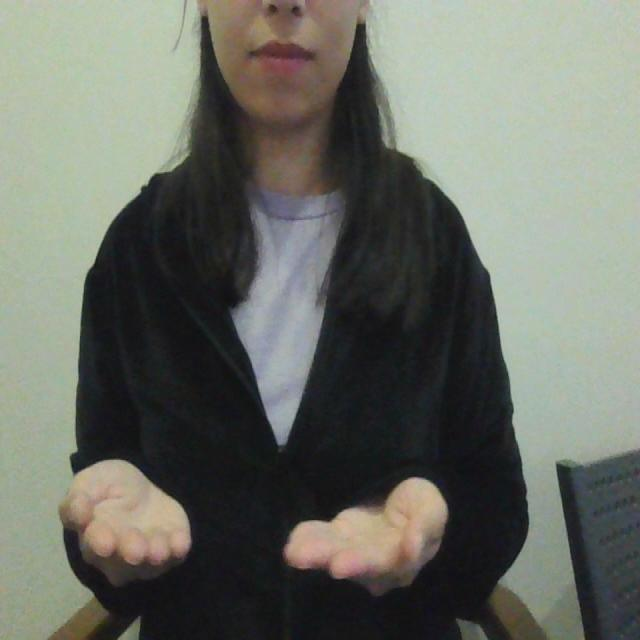Evet: (56, 452, 455, 603)
